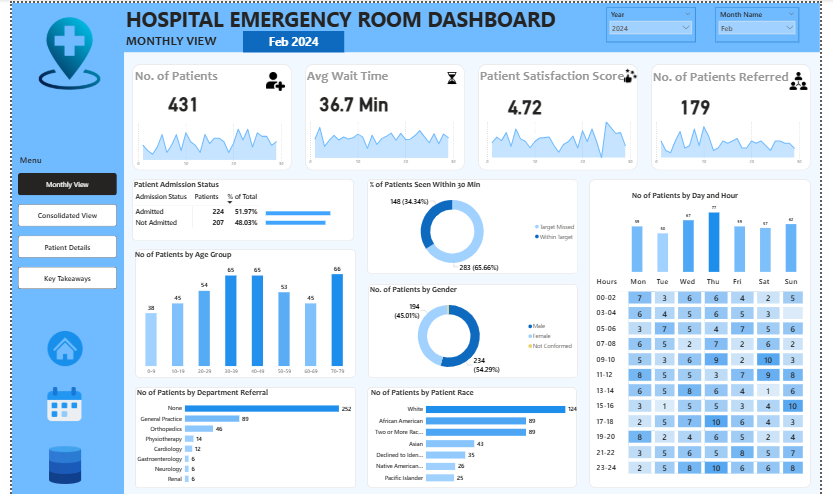

The dashboard page shown, as its layout file describes it:
{"tool":"powerbi","page":{"name":"Monthly View","canvas":[2300,1400],"ordinal":0},"visuals":[{"type":"shape","box":[0,0,318.7,1400],"z":0},{"type":"shape","box":[342.4,172.7,455,303],"z":1000},{"type":"shape","box":[319.9,0,1980.1,140],"z":2000},{"type":"textbox","box":[319.9,0,1252.6,111.7],"z":3000},{"type":"textbox","box":[319.9,78.5,289.8,66.4],"z":4000},{"type":"card","fields":{"Values":["Hospital ER_Data.No of Patients"]},"box":[393.9,239.4,190.9,84.8],"z":5000},{"type":"slicer","fields":{"Values":["Date Table.Year"]},"box":[1690.9,12.1,254.5,100],"z":6000},{"type":"slicer","fields":{"Values":["Date Table.Month Name"]},"box":[2000,12.1,239.4,100],"z":7000},{"type":"textbox","box":[345.5,178.8,290.9,66.7],"z":8000},{"type":"areaChart","fields":{"Category":["Date Table.Date.Variation.Date Hierarchy.Day"],"Y":["Hospital ER_Data.No of Patients"]},"box":[345.5,330.3,436.4,145.5],"z":9000},{"type":"card","fields":{"Values":["Min(Date Table.Month & Year)"]},"box":[657.6,78.8,287.9,60.6],"z":10000},{"type":"shape","box":[834.3,172.7,455,303],"z":11000},{"type":"card","fields":{"Values":["Hospital ER_Data.Avg Wait Time"]},"box":[860.6,239.4,227.3,84.8],"z":12000},{"type":"textbox","box":[833.3,178.8,290.9,66.7],"z":13000},{"type":"areaChart","fields":{"Category":["Date Table.Date.Variation.Date Hierarchy.Day"],"Y":["Avg(Hospital ER_Data.Patient Waittime)"]},"box":[833.3,324.2,436.4,145.5],"z":14000},{"type":"shape","box":[1326.3,172.7,455,303],"z":15000},{"type":"shape","box":[1818.2,172.7,455,303],"z":16000},{"type":"textbox","box":[1327.3,178.8,433.3,66.7],"z":17000},{"type":"card","fields":{"Values":["Hospital ER_Data.No of Patient Referred"]},"box":[1830.3,248.5,227.3,84.8],"z":18000},{"type":"card","fields":{"Values":["Hospital ER_Data.Satisfaction Score"]},"box":[1345.5,248.5,227.3,84.8],"z":19000},{"type":"areaChart","fields":{"Category":["Date Table.Date.Variation.Date Hierarchy.Day"],"Y":["Hospital ER_Data.Satisfaction Score"]},"box":[1336.4,324.2,436.4,145.5],"z":20000},{"type":"textbox","box":[1818.2,181.8,454.5,66.7],"z":21000},{"type":"areaChart","fields":{"Category":["Date Table.Date.Variation.Date Hierarchy.Day"],"Y":["Hospital ER_Data.No of Patient Referred"]},"box":[1818.2,324.2,436.4,145.5],"z":22000},{"type":"shape","box":[341.5,500.8,631.7,176.4],"z":23000},{"type":"pivotTable","title":"Patient Admission Status","fields":{"Rows":["Hospital ER_Data.Admission Status"],"Values":["Hospital ER_Data.No of Patients1","Hospital ER_Data.No of Patients"]},"box":[341.5,500.8,631.7,176.4],"z":24000},{"type":"barChart","fields":{"Category":["Hospital ER_Data.Admission Status"],"Y":["Hospital ER_Data.No of Patients"]},"box":[717.1,566.3,256.1,85.4],"z":25000},{"type":"shape","box":[350,700,628.9,367.1],"z":26000},{"type":"clusteredColumnChart","fields":{"Category":["Hospital ER_Data.Age Group"],"Y":["Hospital ER_Data.No of Patients"]},"box":[344.3,700,634.6,367.1],"z":27000},{"type":"shape","box":[350,1092.7,628.9,287.4],"z":28000},{"type":"clusteredBarChart","fields":{"Category":["Hospital ER_Data.Department Referral"],"Y":["Hospital ER_Data.No of Patients"]},"box":[350,1092.7,623.2,287.4],"z":29000},{"type":"shape","box":[1010.2,500.8,600,270],"z":30000},{"type":"donutChart","title":"% of Patients Seen Within 30 Min","fields":{"Category":["Hospital ER_Data.Waittime Status"],"Y":["Hospital ER_Data.No of Patients"]},"box":[1013,500.8,600.4,270.3],"z":31000},{"type":"shape","box":[1013,799.6,597.6,267.5],"z":32000},{"type":"donutChart","title":"No. of Patients by Gender","fields":{"Y":["Hospital ER_Data.No of Patients"],"Category":["Hospital ER_Data.Patient Gender"]},"box":[1013,799.6,594.7,267.5],"z":33000},{"type":"shape","box":[1010.2,1092.7,597.6,287.4],"z":34000},{"type":"shape","box":[1641.9,500.8,631.7,879.3],"z":35000},{"type":"clusteredBarChart","fields":{"Y":["Hospital ER_Data.No of Patients"],"Category":["Hospital ER_Data.Patient Race"]},"box":[1015.9,1092.7,597.6,287.4],"z":36000},{"type":"pivotTable","fields":{"Rows":["Hospital ER_Data.Waittime Interval"],"Columns":["Date Table.Day Name"],"Values":["Hospital ER_Data.No of Patients"]},"box":[1653.3,771.1,606.1,580.5],"z":37000},{"type":"columnChart","title":"No of Patients by Day and Hour ","fields":{"Category":["Date Table.Day Name"],"Y":["Hospital ER_Data.No of Patients"]},"box":[1758.5,532.1,480.9,239],"z":38000},{"type":"image","box":[59.8,34.1,207.7,219.1],"z":39000},{"type":"image","box":[2202.4,196.3,71.1,51.2],"z":40000},{"type":"image","box":[1235,190.7,34.1,45.5],"z":41000},{"type":"image","box":[1738.6,165,42.7,82.5],"z":42000},{"type":"image","box":[719.9,196.3,59.8,54.1],"z":43000},{"type":"pageNavigator","box":[17.1,483.7,281.7,332.9],"z":44000},{"type":"textbox","box":[17.1,424,111,45.5],"z":44001},{"type":"image","box":[17.1,933.3,267.5,99.6],"z":44002},{"type":"image","box":[25.6,1092.7,247.6,96.7],"z":44003},{"type":"image","box":[82.5,1237.8,136.6,153.7],"z":44004}]}

Visuals, with their boxes in screenshot pixels (x1, y1, x2, y2), scaled from the page's 2300x1400 canvas onto the 833x494 screenshot:
shape: region(0, 0, 115, 493)
shape: region(124, 61, 289, 168)
shape: region(116, 0, 832, 49)
textbox: region(116, 0, 570, 39)
textbox: region(116, 28, 221, 51)
card - Hospital ER_Data.No of Patients: region(143, 84, 212, 114)
slicer - Date Table.Year: region(612, 4, 705, 40)
slicer - Date Table.Month Name: region(724, 4, 811, 40)
textbox: region(125, 63, 230, 87)
areaChart - Date Table.Date.Variation.Date Hierarchy.Day x Hospital ER_Data.No of Patients: region(125, 117, 283, 168)
card - Min(Date Table.Month & Year): region(238, 28, 342, 49)
shape: region(302, 61, 467, 168)
card - Hospital ER_Data.Avg Wait Time: region(312, 84, 394, 114)
textbox: region(302, 63, 407, 87)
areaChart - Date Table.Date.Variation.Date Hierarchy.Day x Avg(Hospital ER_Data.Patient Waittime): region(302, 114, 460, 166)
shape: region(480, 61, 645, 168)
shape: region(659, 61, 823, 168)
textbox: region(481, 63, 638, 87)
card - Hospital ER_Data.No of Patient Referred: region(663, 88, 745, 118)
card - Hospital ER_Data.Satisfaction Score: region(487, 88, 570, 118)
areaChart - Date Table.Date.Variation.Date Hierarchy.Day x Hospital ER_Data.Satisfaction Score: region(484, 114, 642, 166)
textbox: region(659, 64, 823, 88)
areaChart - Date Table.Date.Variation.Date Hierarchy.Day x Hospital ER_Data.No of Patient Referred: region(659, 114, 817, 166)
shape: region(124, 177, 352, 239)
"Patient Admission Status" pivotTable: region(124, 177, 352, 239)
barChart - Hospital ER_Data.Admission Status x Hospital ER_Data.No of Patients: region(260, 200, 352, 230)
shape: region(127, 247, 355, 377)
clusteredColumnChart - Hospital ER_Data.Age Group x Hospital ER_Data.No of Patients: region(125, 247, 355, 377)
shape: region(127, 386, 355, 487)
clusteredBarChart - Hospital ER_Data.Department Referral x Hospital ER_Data.No of Patients: region(127, 386, 352, 487)
shape: region(366, 177, 583, 272)
"% of Patients Seen Within 30 Min" donutChart: region(367, 177, 584, 272)
shape: region(367, 282, 583, 377)
"No. of Patients by Gender" donutChart: region(367, 282, 582, 377)
shape: region(366, 386, 582, 487)
shape: region(595, 177, 823, 487)
clusteredBarChart - Hospital ER_Data.No of Patients x Hospital ER_Data.Patient Race: region(368, 386, 584, 487)
pivotTable - Hospital ER_Data.Waittime Interval x Date Table.Day Name: region(599, 272, 818, 477)
"No of Patients by Day and Hour " columnChart: region(637, 188, 811, 272)
image: region(22, 12, 97, 89)
image: region(798, 69, 823, 87)
image: region(447, 67, 460, 83)
image: region(630, 58, 645, 87)
image: region(261, 69, 282, 88)
pageNavigator: region(6, 171, 108, 288)
textbox: region(6, 150, 46, 166)
image: region(6, 329, 103, 364)
image: region(9, 386, 99, 420)
image: region(30, 437, 79, 491)
